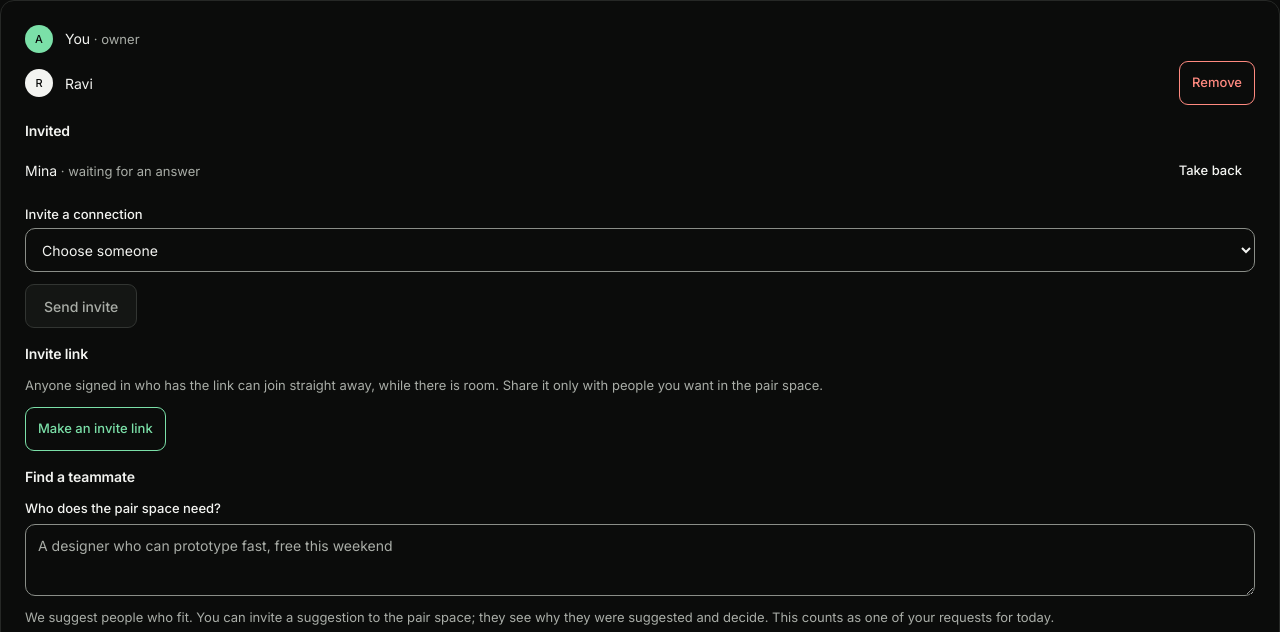
Test case: TeamPeople › lets the owner invite, take back an invite and remove a member
Check: the text "· owner" is shown, box [90,31,140,47]
Select "Kiran" in the dropdown labelled "Invite a connection": (640, 250) [25,228,1255,272]
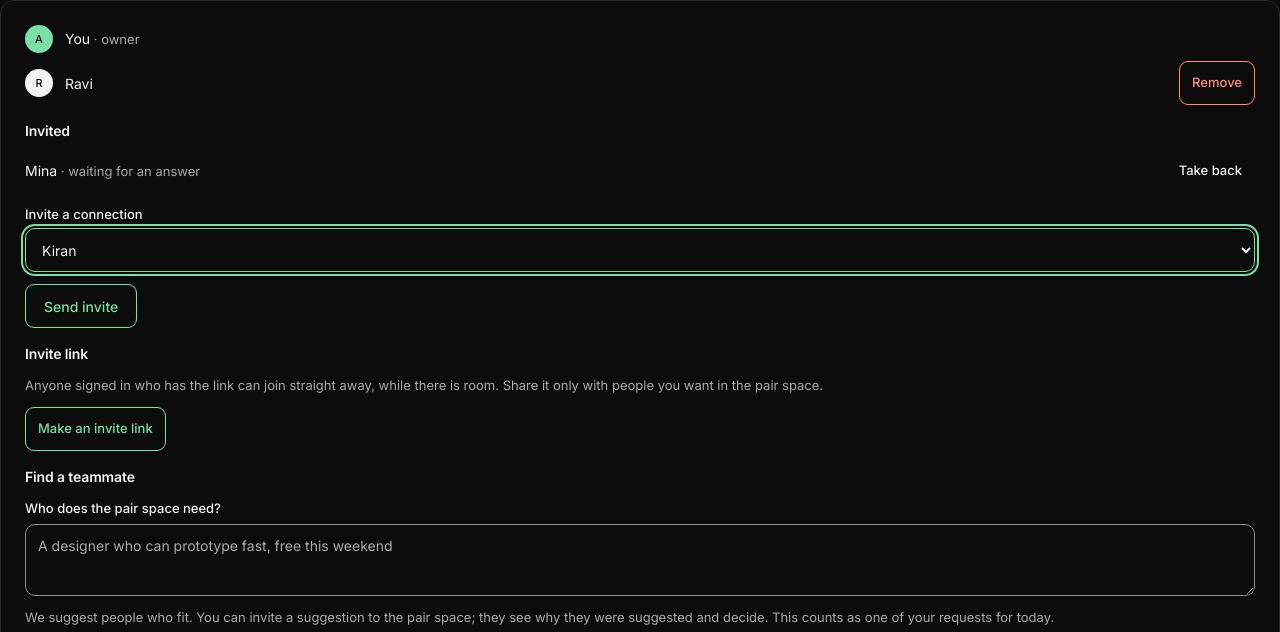
Click the button "Send invite": click(81, 306) [25,284,137,328]
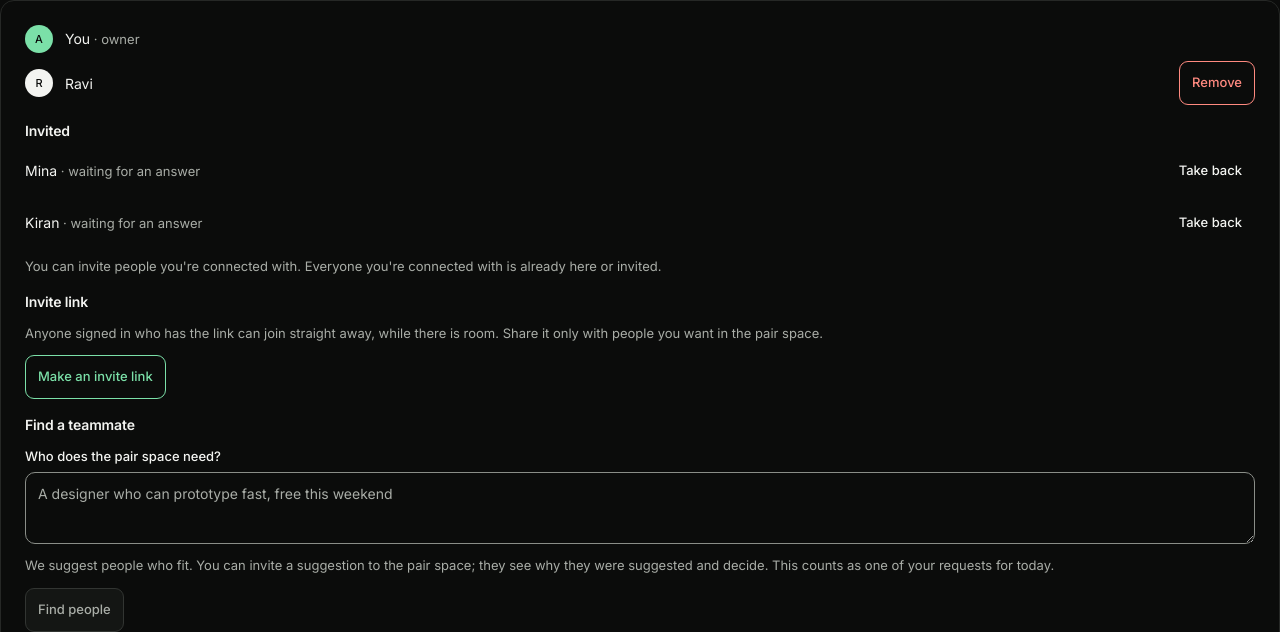
Check: the text "Kiran" is shown, box [25,214,59,231]
Click the button with aria-label "Take back the invite to Mina": click(1210, 171) [1166,149,1255,193]
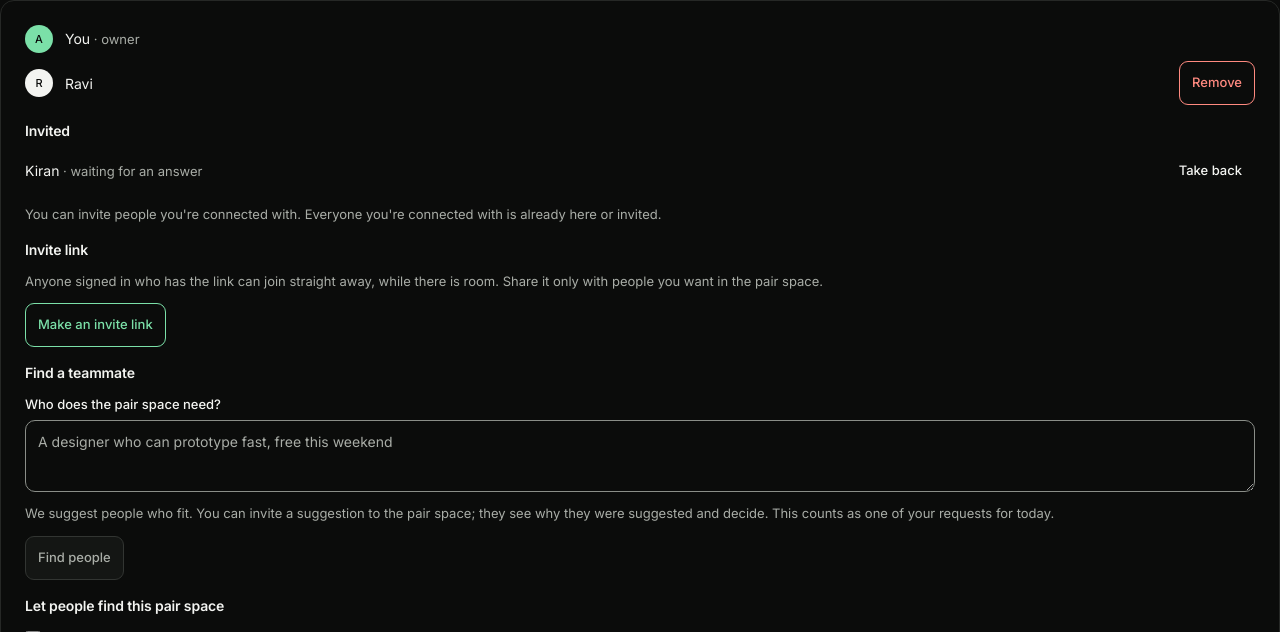
Check: the text "Mina" is gone
Click the button with aria-label "Remove Ravi": click(1217, 83) [1179,61,1255,105]
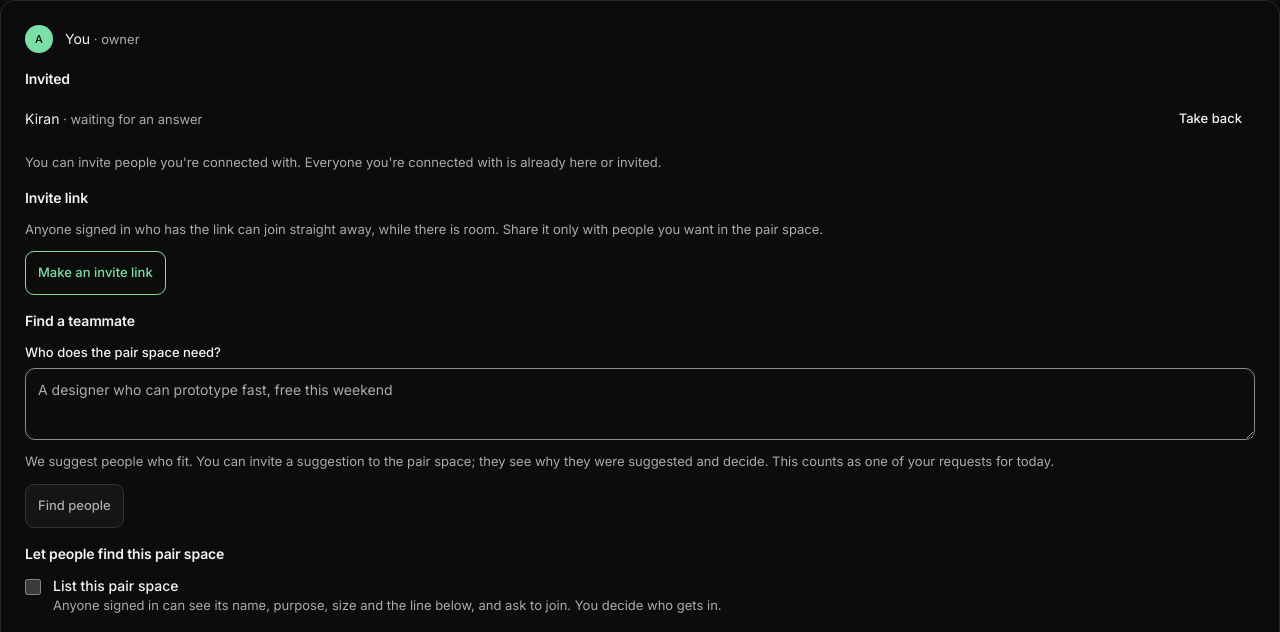
Check: the text "Ravi" is gone
